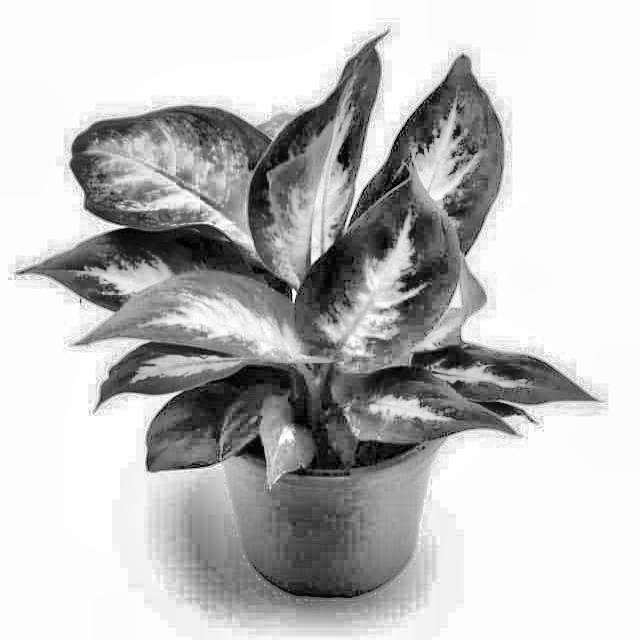plants: (14, 27, 608, 600)
